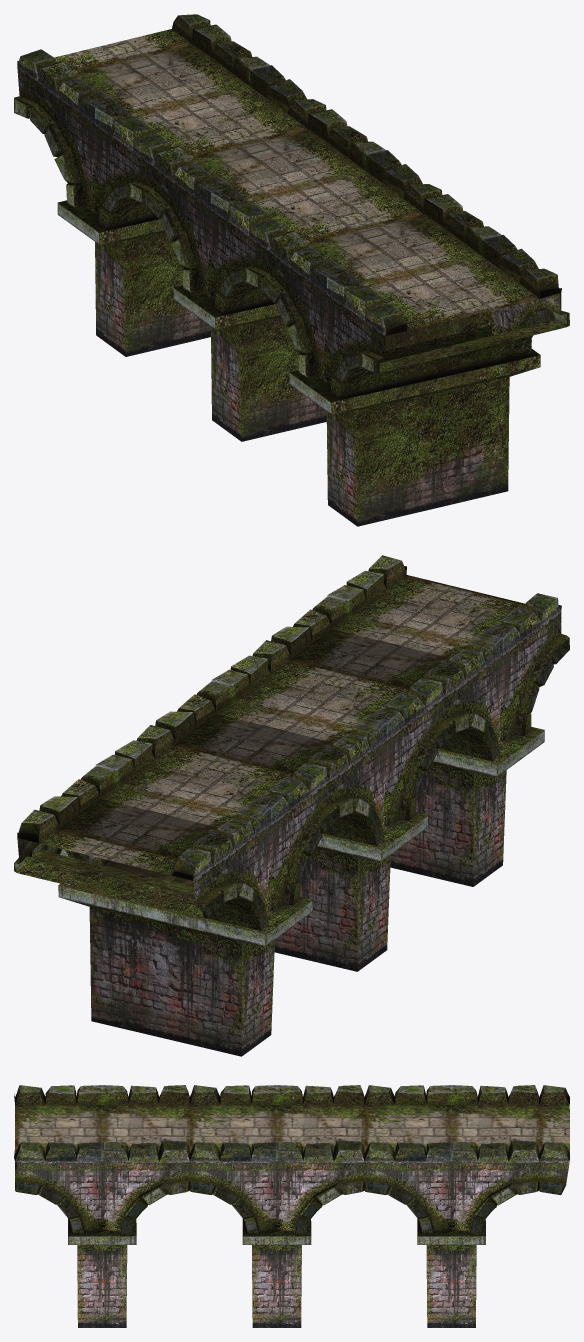
The model's file is bridge.glb.
3 views of the same model, one above another, from view 1: azimuth 30°, elevation 25°; view 2: azimuth 150°, elevation 25°; view 3: azimuth 270°, elevation 25° (orthographic). The views are drawn at different scales.
Visible parts, largest first — view 1: Object_3; view 2: Object_3; view 3: Object_3.
Part boxes in pixels (bbox=[...]): Object_3: bbox=[14, 14, 569, 526]; Object_3: bbox=[14, 555, 569, 1056]; Object_3: bbox=[14, 1085, 569, 1327].
Bounding box in the file's own units: 5.48 × 6.1 × 16.72.
Materials: 1 (1 with a texture image).
